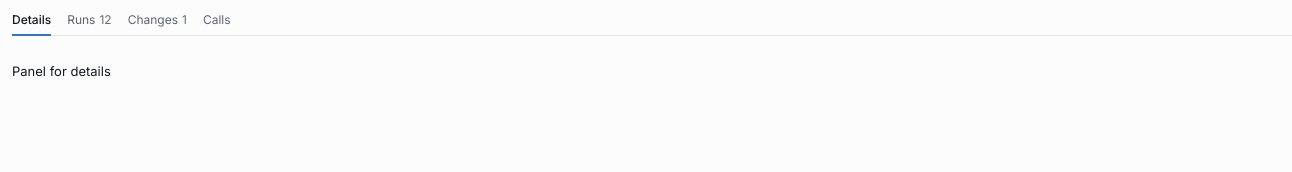
Test case: Tabs › selects a tab on click and reports it
Click the tab "Runs 12" at [89, 24], box [67,12,112,35]
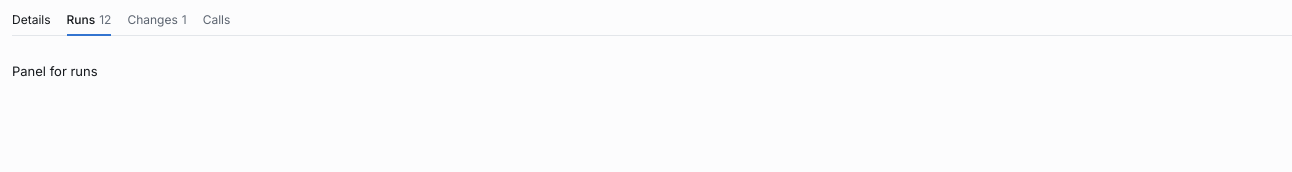
Now the panel reads "Panel for runs", box [12,63,98,79]
